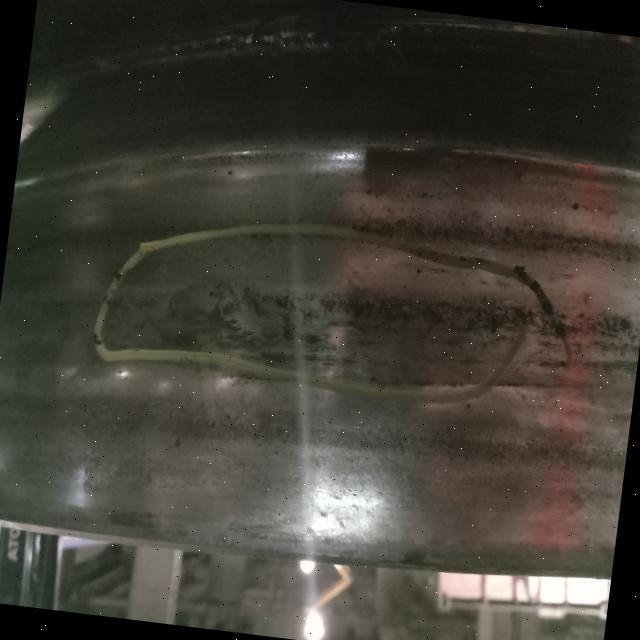flat: (157, 248, 497, 379)
